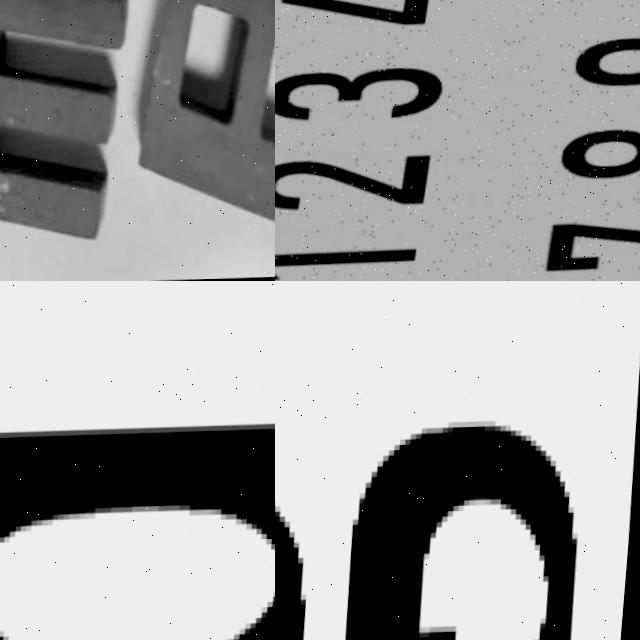1: (275, 223, 440, 281)
2: (275, 131, 461, 237)
3: (275, 42, 464, 148)
4: (275, 0, 480, 52)
7: (514, 192, 640, 281)
8: (532, 101, 640, 208)
9: (548, 8, 640, 113)
G: (275, 388, 599, 640)
M: (0, 0, 136, 229)
P: (138, 0, 275, 239)
Q: (0, 361, 275, 640)
